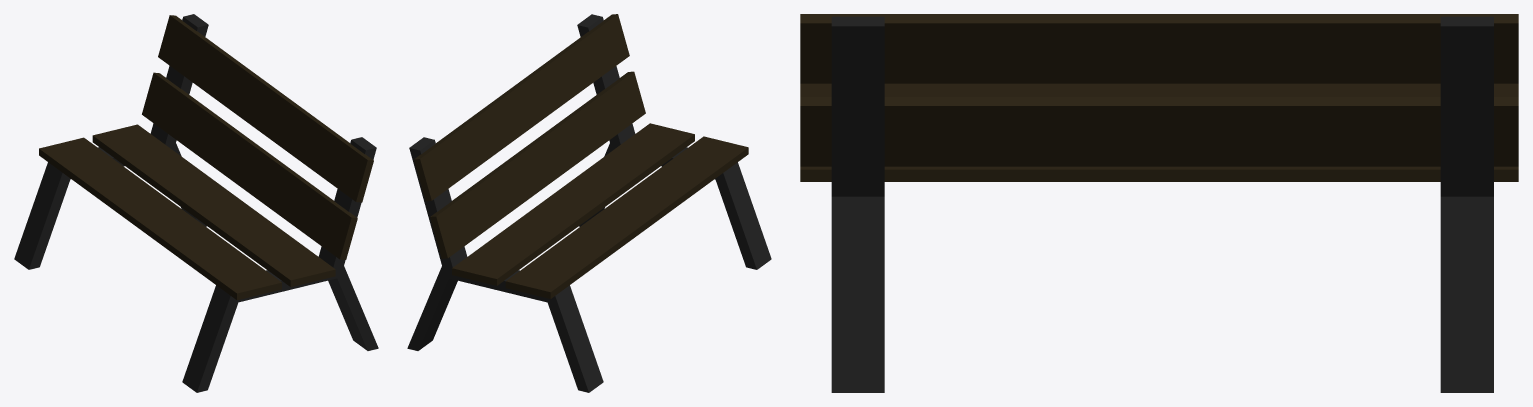
The model's file is SM_Bench.fbx.
3 renders of one model, left to right at view 1: azimuth 30°, elevation 25°; view 2: azimuth 150°, elevation 25°; view 3: azimuth 270°, elevation 25°, orthographic. The views are drawn at different scales.
Parts seen in each view (by area): view 1: SM_Bench; view 2: SM_Bench; view 3: SM_Bench.
Boxes of the visible parts, bbox=[...] form: SM_Bench: bbox=[14, 14, 378, 392]; SM_Bench: bbox=[407, 14, 771, 392]; SM_Bench: bbox=[800, 14, 1518, 392].
Bounding box in the file's own units: 90.14 × 170 × 95.29.
